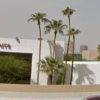Tree: (27, 4, 86, 42)
